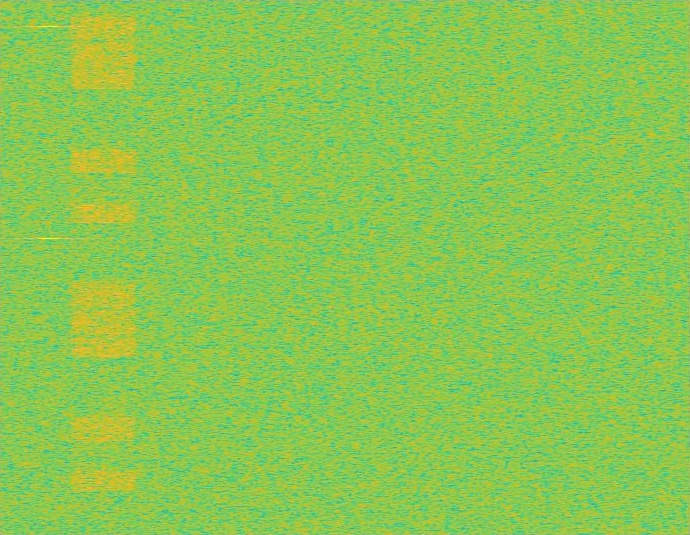LTE: (69, 0, 138, 534)
Radar: (42, 0, 56, 534)
